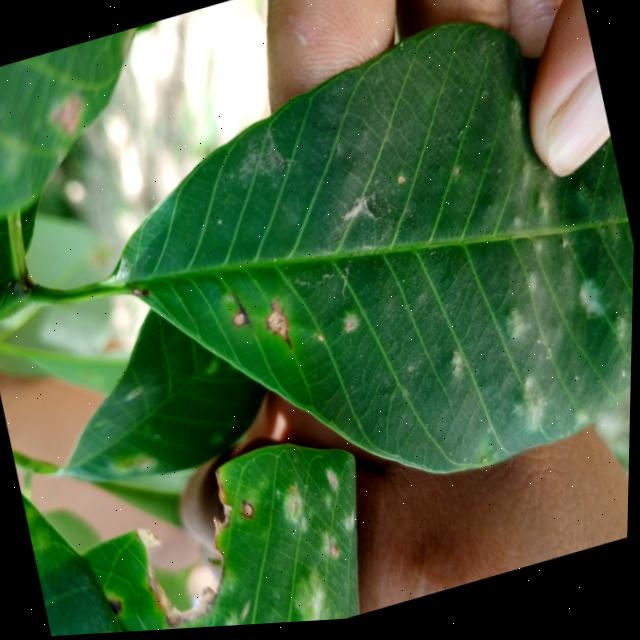Colletotrichum: (231, 311, 248, 331), (242, 503, 259, 523)
Corynespora: (260, 300, 296, 358), (233, 292, 256, 334)
Leaf-Blight: (137, 522, 165, 552), (269, 313, 289, 344)
